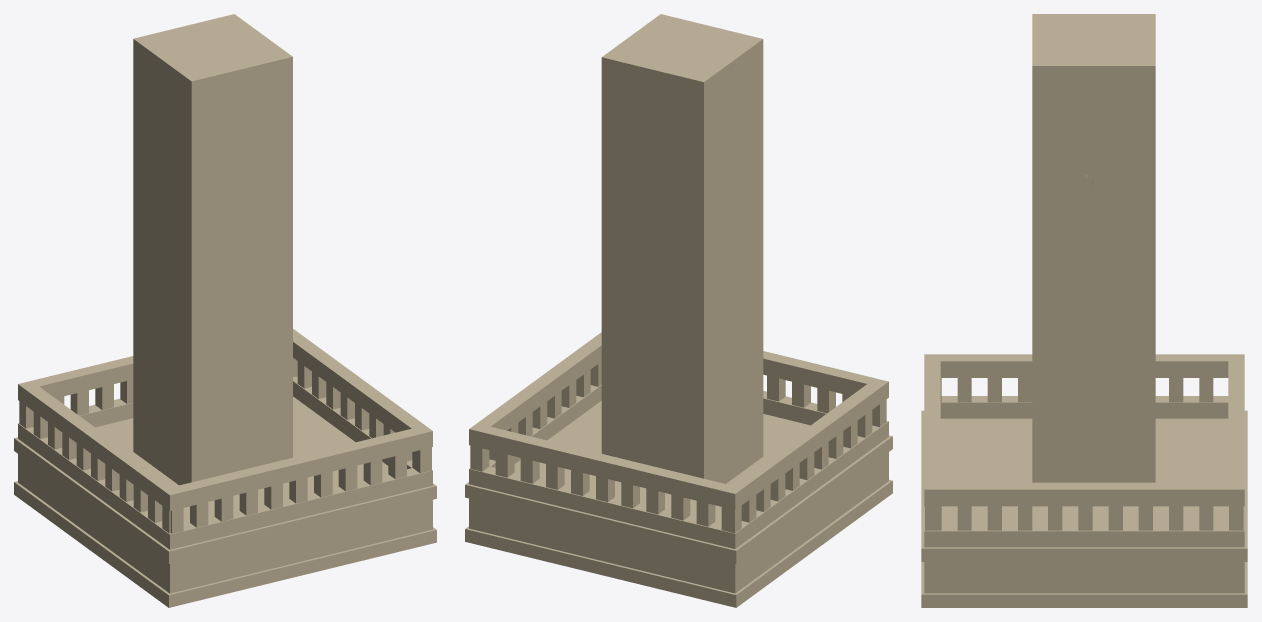
The model's file is MainStele.fbx.
3 views of the same model, side by side, from view 1: azimuth 30°, elevation 25°; view 2: azimuth 150°, elevation 25°; view 3: azimuth 270°, elevation 25° (orthographic). The views are drawn at different scales.
Visible parts, largest first — view 1: MainStele; view 2: MainStele; view 3: MainStele.
Part boxes in pixels (left/top/right/bottom): MainStele: left=14, top=14, right=436, bottom=607; MainStele: left=465, top=14, right=892, bottom=607; MainStele: left=921, top=14, right=1247, bottom=607.
Bounding box in the file's own units: 420 × 703 × 420.
